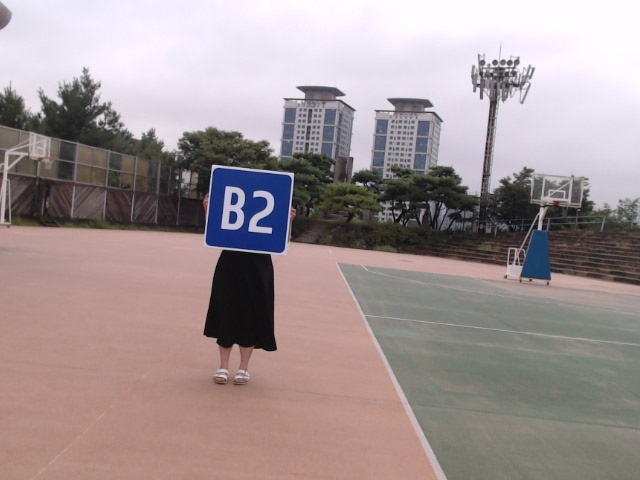delivery_b2: (205, 167, 293, 255)
